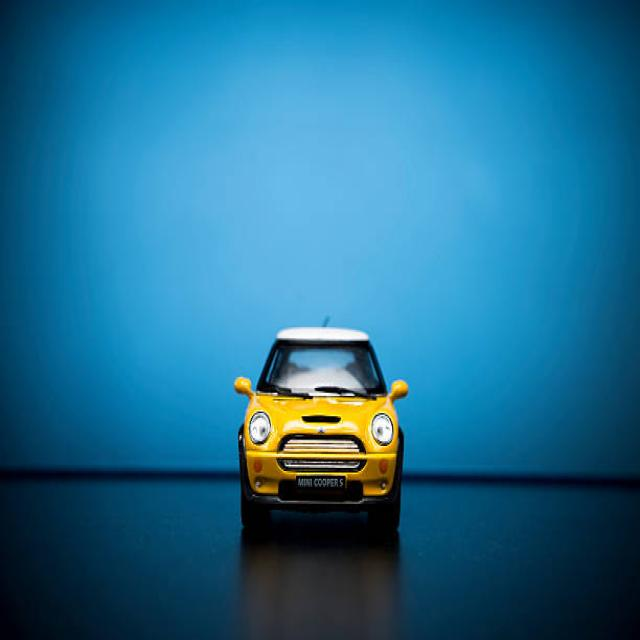Car: (233, 324, 408, 535)
